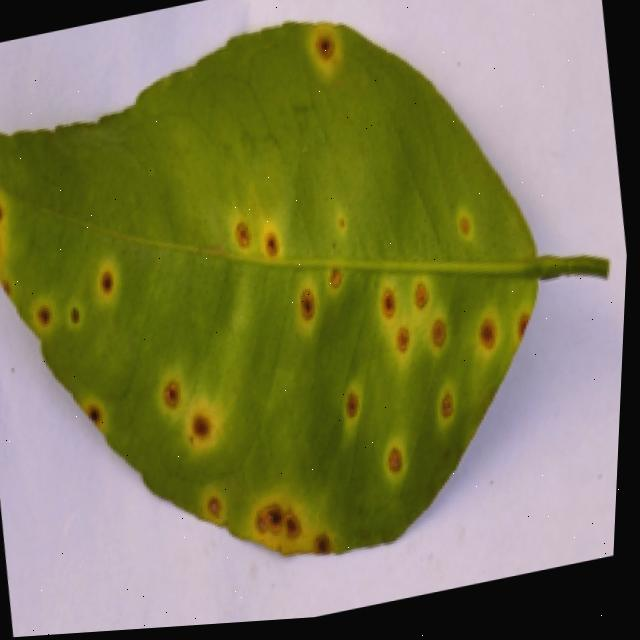canker: (0, 21, 607, 551), (310, 239, 564, 532), (71, 355, 233, 569), (0, 125, 139, 370), (219, 193, 367, 348), (235, 474, 351, 594), (295, 12, 357, 90), (443, 195, 488, 264)
